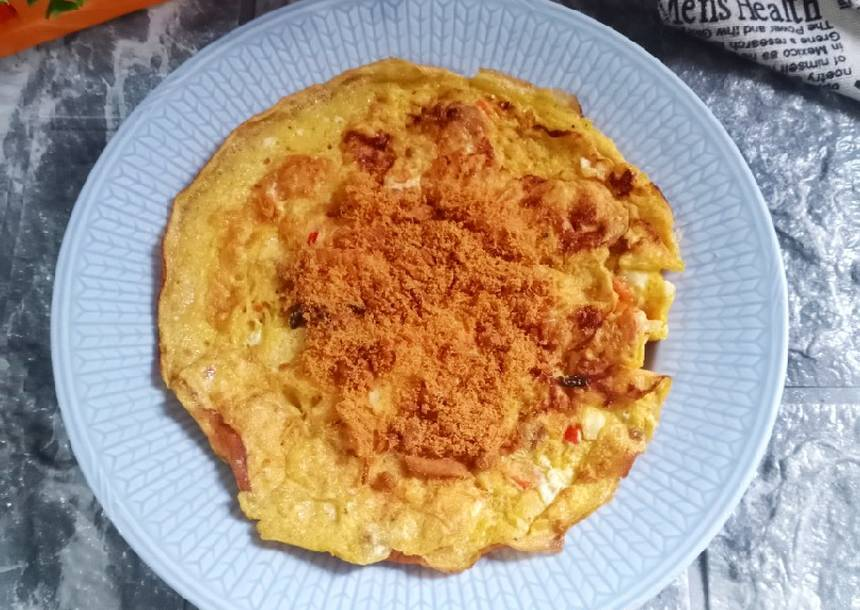Telur: (122, 76, 680, 573)
